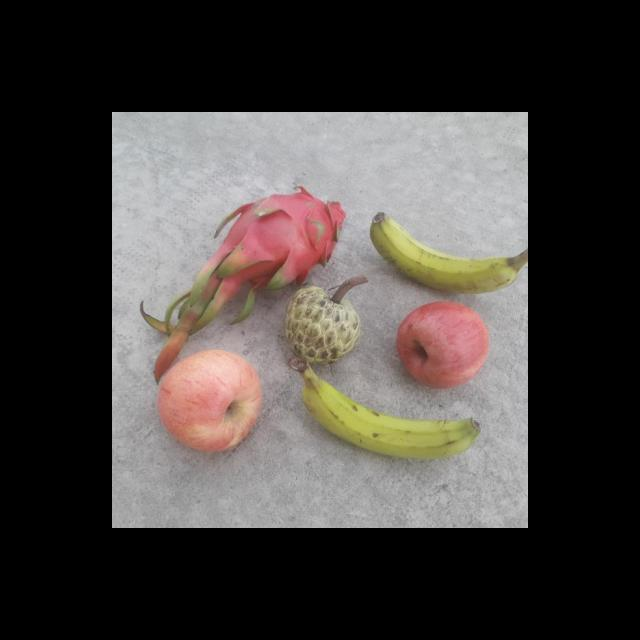Sakya fruit: (286, 282, 359, 365)
apple: (158, 348, 272, 454), (397, 302, 490, 386)
banana: (288, 358, 484, 458), (368, 204, 520, 294)
pitaya: (208, 189, 350, 281)
